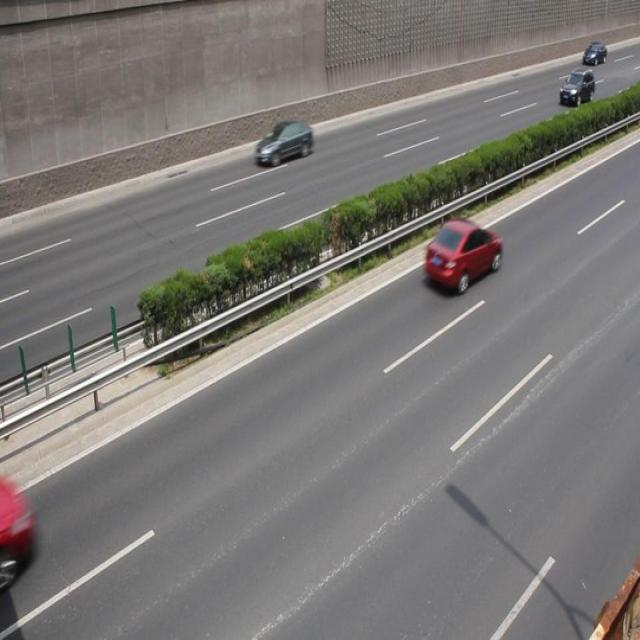car: (425, 218, 499, 294), (254, 120, 312, 167), (557, 68, 593, 107)
